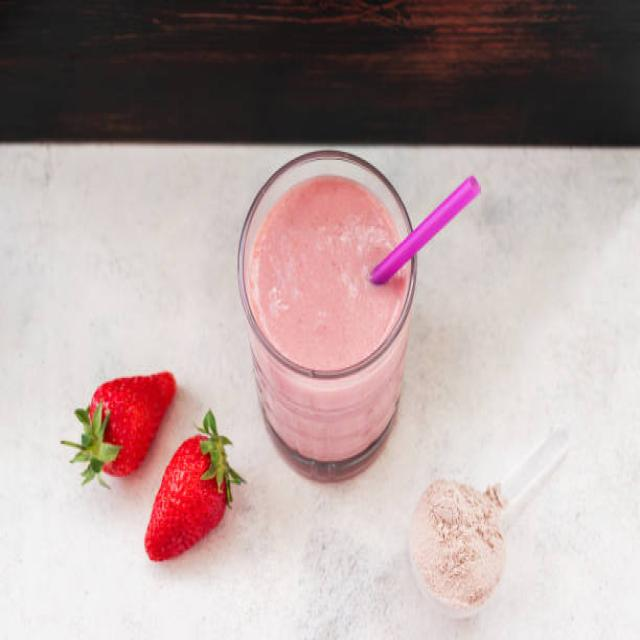Healthy Fruit: (146, 435, 226, 561), (87, 371, 177, 473)
